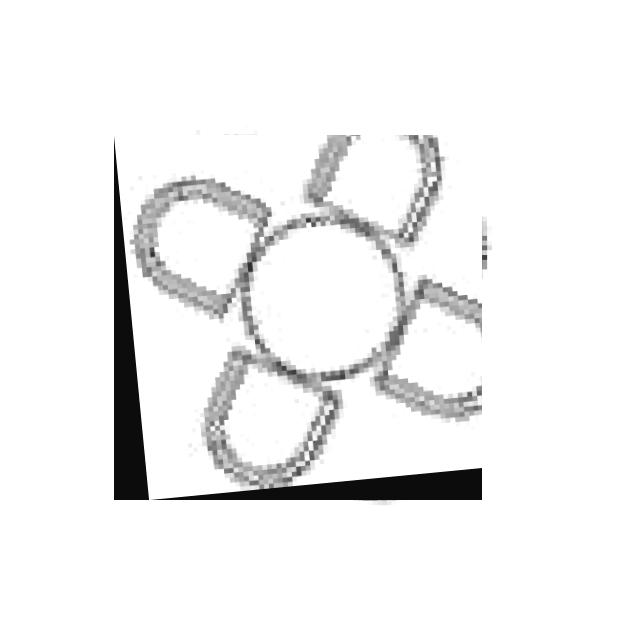table: (115, 135, 482, 500)
